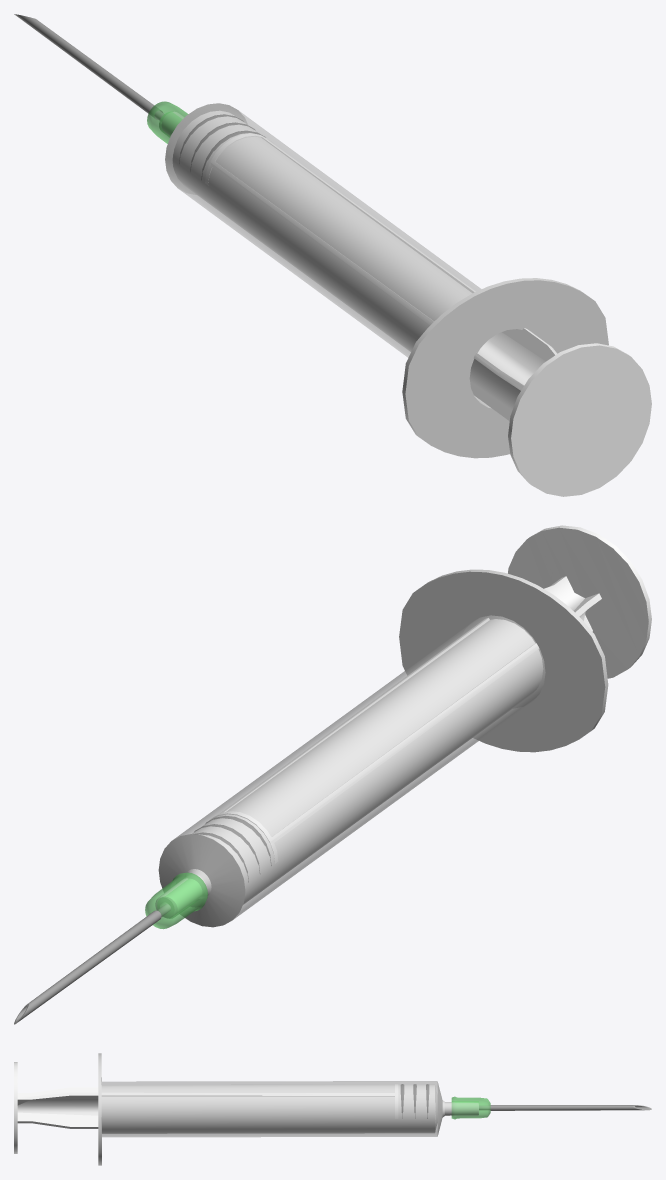
Rendered from syrenge.gltf.
The picture shows the model from 3 angles, top to bottom: view 1: azimuth 30°, elevation 25°; view 2: azimuth 150°, elevation 25°; view 3: azimuth 270°, elevation 25°; orthographic projection. The views are drawn at different scales.
Parts seen in each view (by area): view 1: void, piston, needle; view 2: void, piston, needle; view 3: void, piston, needle.
Boxes of the visible parts, left/top/right/bottom form: void: left=162, top=103, right=608, bottom=458; piston: left=179, top=114, right=651, bottom=496; needle: left=14, top=14, right=188, bottom=143; void: left=155, top=569, right=608, bottom=927; piston: left=194, top=525, right=651, bottom=882; needle: left=14, top=872, right=207, bottom=1024; void: left=98, top=1053, right=478, bottom=1165; piston: left=14, top=1062, right=429, bottom=1153; needle: left=451, top=1096, right=651, bottom=1119.
Bounding box in the file's own units: 0.038 × 0.0306 × 0.182.
